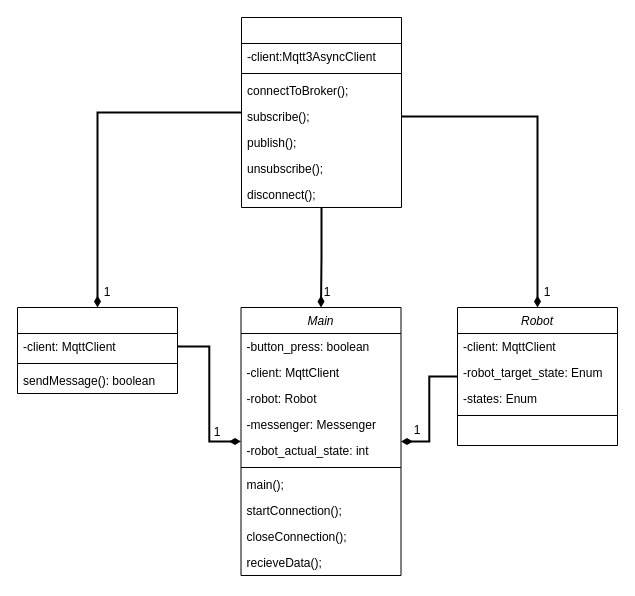
This 635x596 diagram has some shape labels left out. The shapes that lost their labels are listed below. From the top down, each one's box as (x1, y1, x2, y2) in pixels, then its label:
(240, 16, 402, 208): MqttClient
(16, 306, 178, 394): Messenger
